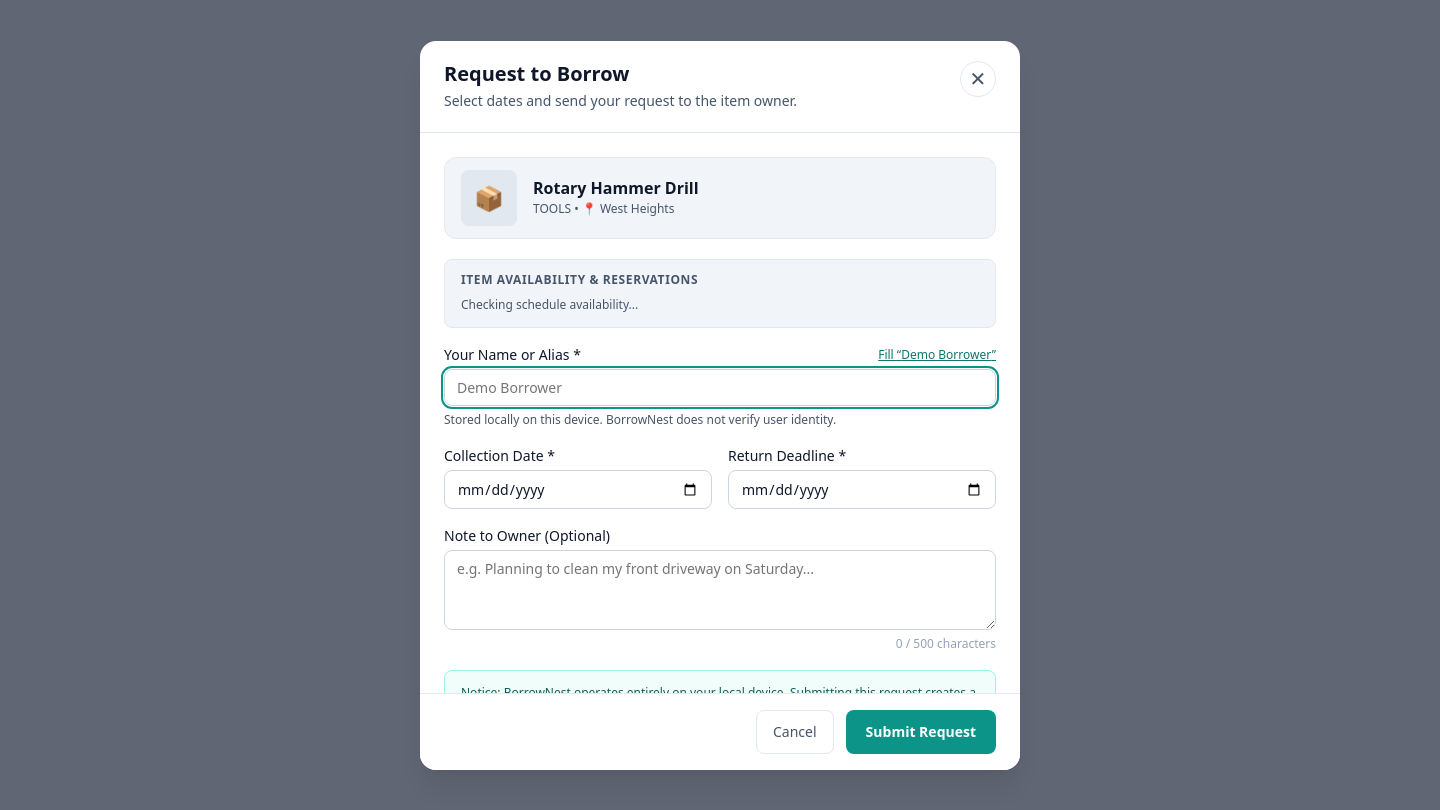
Test: BorrowRequestDialog UI and Validation › validates return deadline is not before collection date
Type "Sam Fisher" into the field labelled "Your Name or Alias *" at (720, 387), box [444,369,996,406]
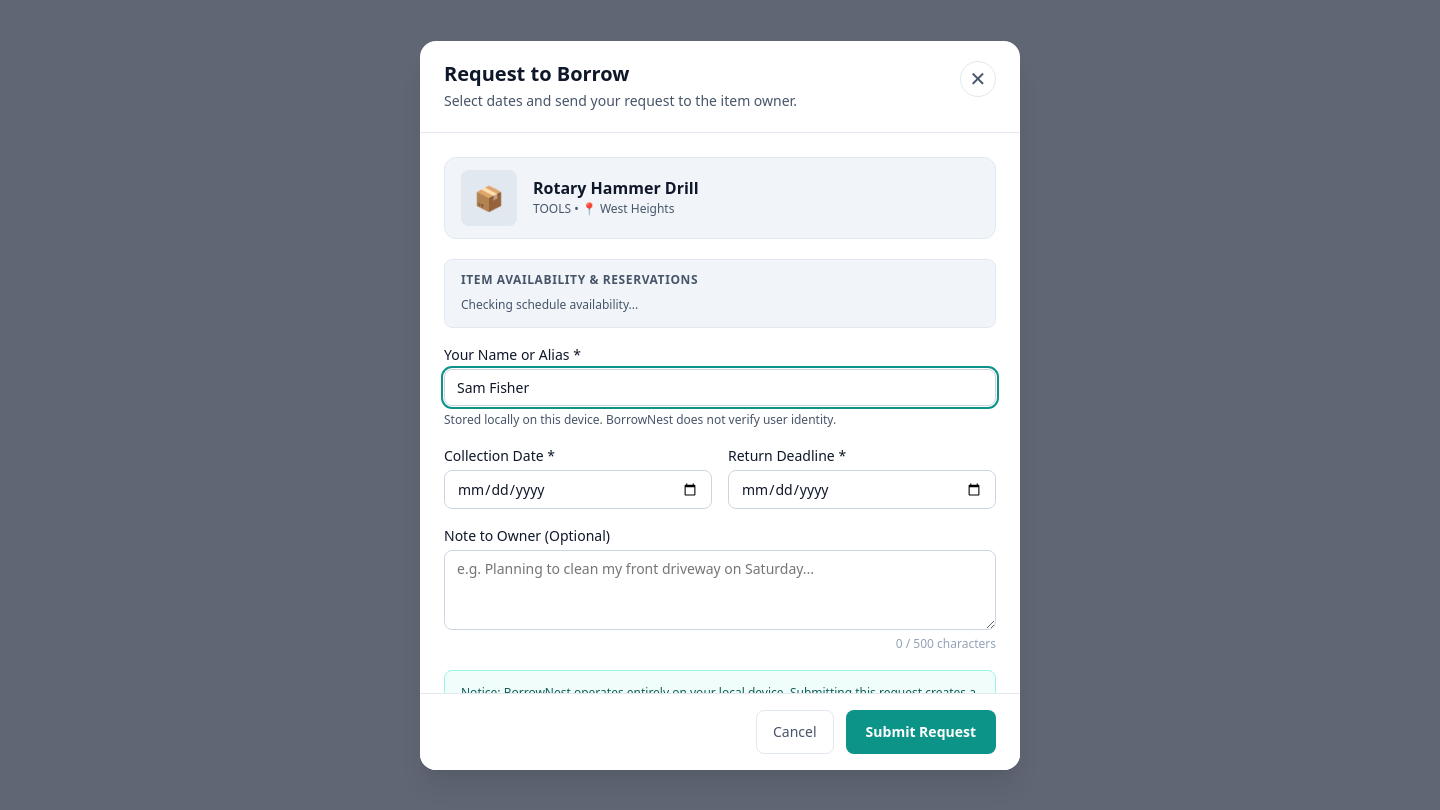
Type "2026-12-10" into the date field labelled "Collection Date *" at (578, 490), box [444,470,712,509]
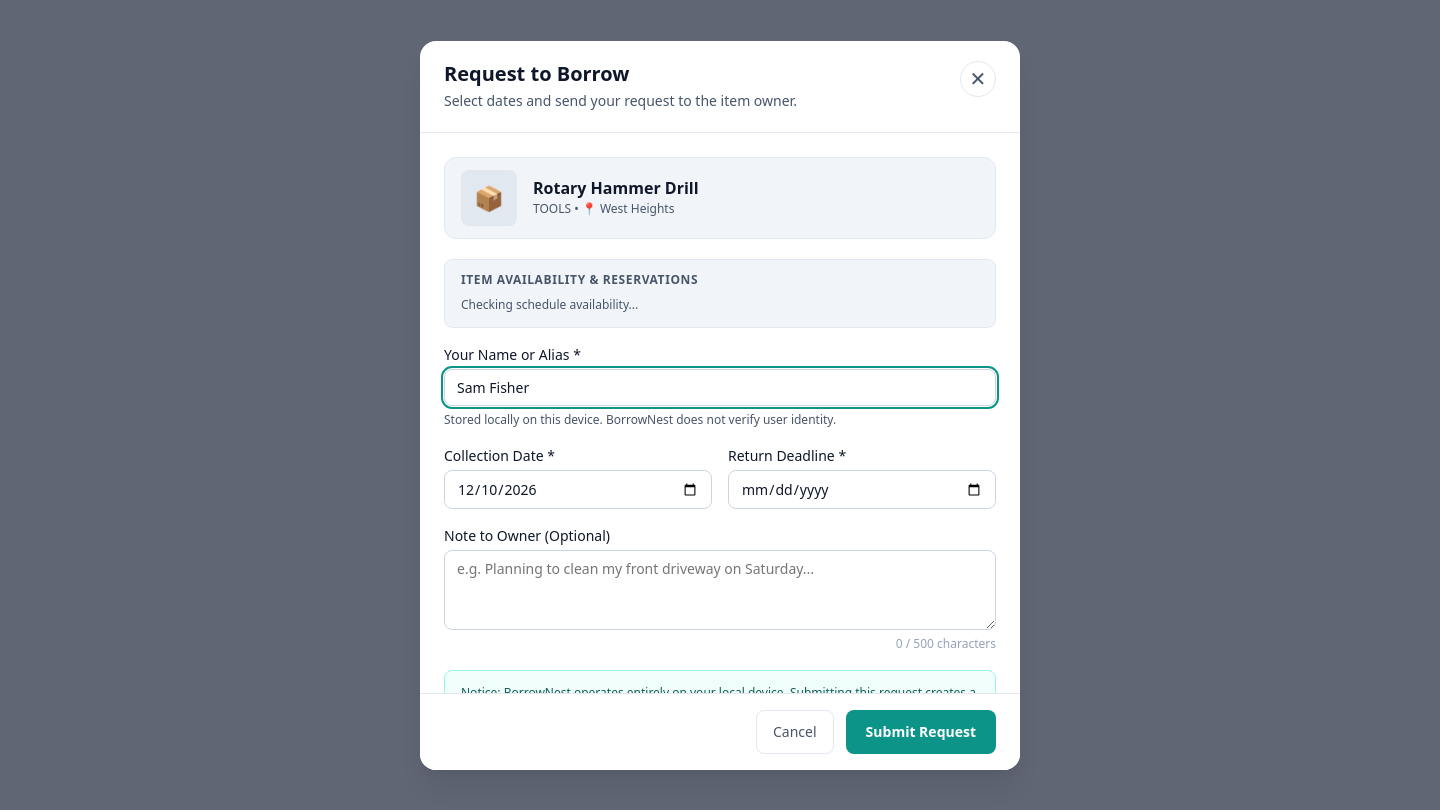
Type "2026-12-05" into the date field labelled "Return Deadline *" at (862, 490), box [728,470,996,509]
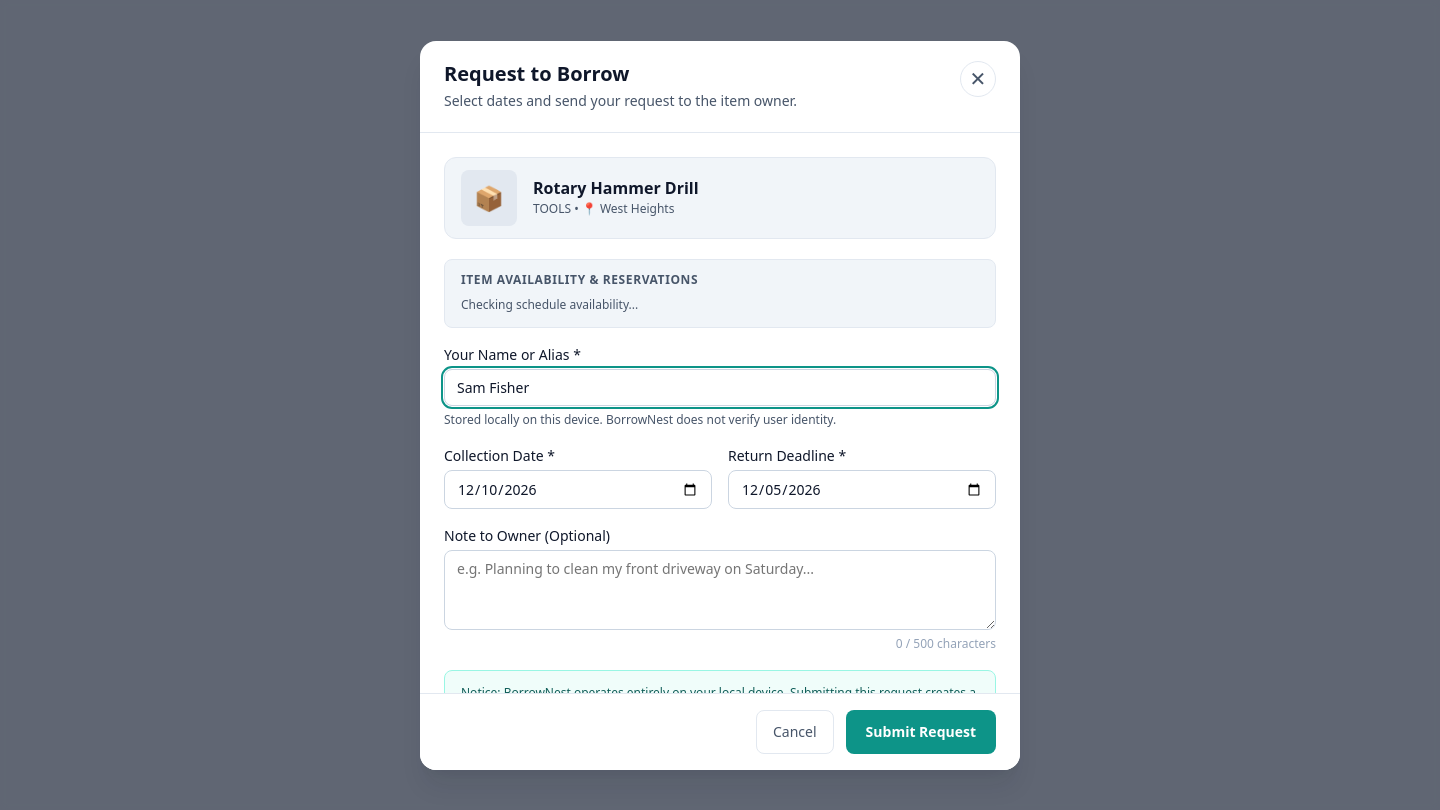
Click the button "Submit Request" at (921, 732), box [846,710,996,754]
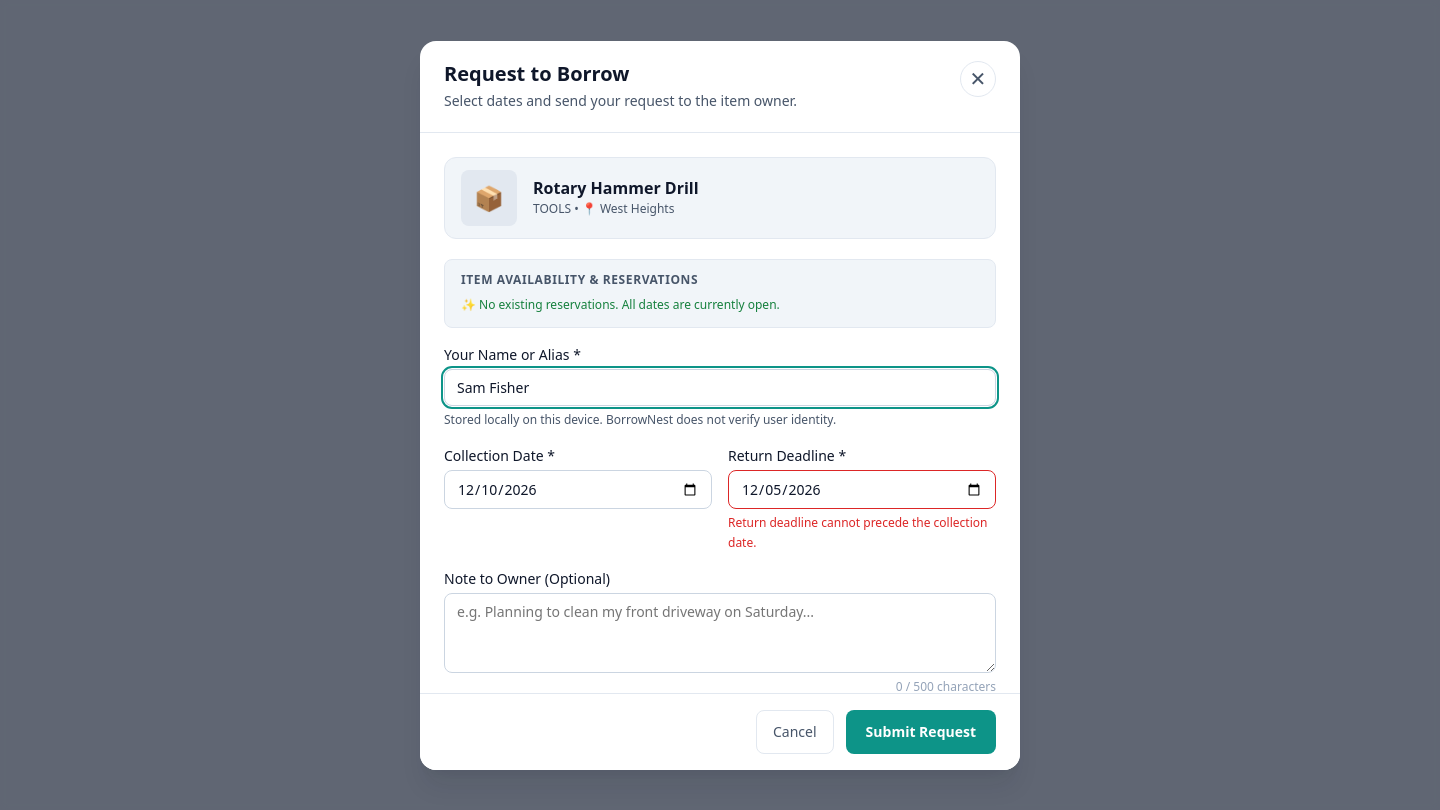
Result: the text "Return deadline cannot precede the collection date." is shown at [728,513,996,552]
